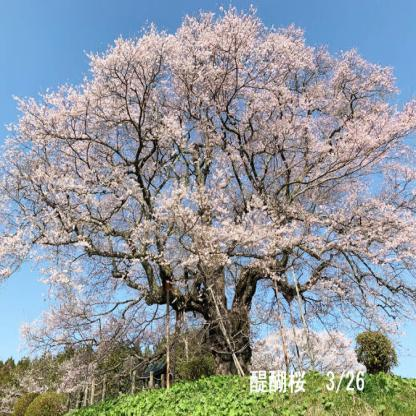EdohiganSakura: (256, 334, 360, 375)
Someiyoshino: (3, 4, 415, 327)
